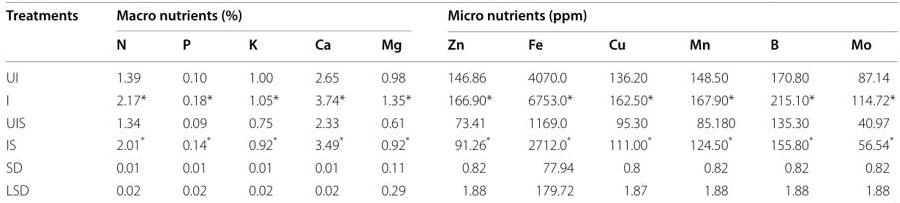table: (5, 5, 894, 198)
table column: (5, 5, 96, 198), (670, 5, 752, 198), (428, 5, 509, 198), (509, 5, 590, 198), (590, 5, 670, 198), (752, 5, 832, 198), (96, 5, 163, 198), (163, 5, 230, 198), (230, 5, 296, 198), (296, 5, 362, 198), (362, 5, 428, 198), (832, 5, 894, 198)
table column header: (5, 5, 894, 60)
table row: (5, 28, 894, 60), (5, 60, 894, 88), (5, 5, 894, 28), (5, 88, 894, 111), (5, 132, 894, 155), (5, 155, 894, 178), (5, 111, 894, 132), (5, 178, 894, 198)
table spanning cell: (428, 5, 894, 28), (96, 5, 428, 28), (5, 5, 96, 60)
